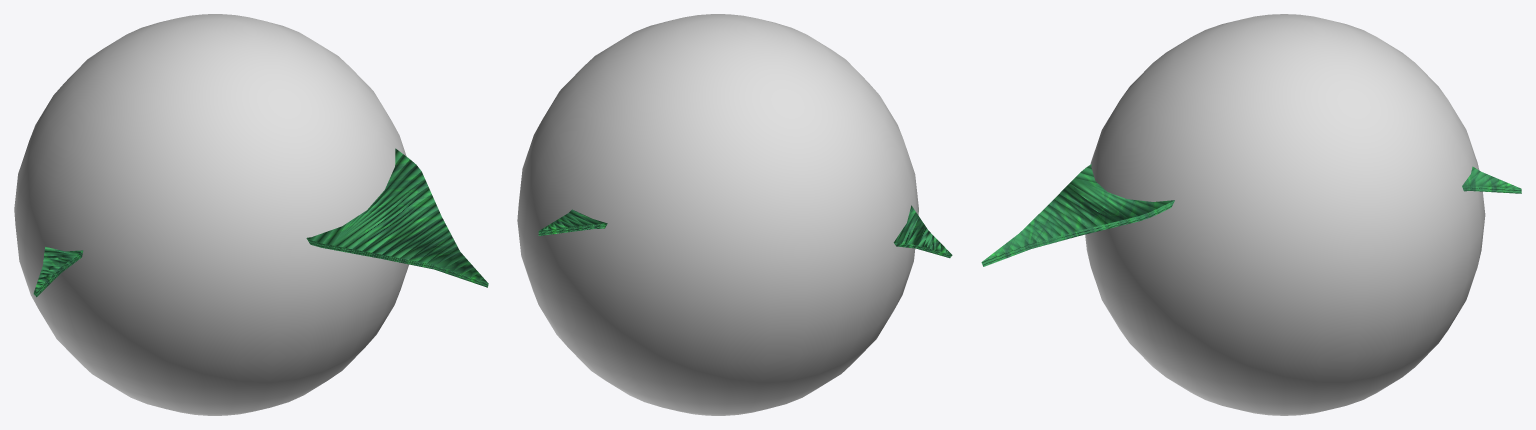
File: kopiec_lisci.FBX
3 views of the same model, side by side, from view 1: azimuth 30°, elevation 25°; view 2: azimuth 150°, elevation 25°; view 3: azimuth 270°, elevation 25° (orthographic).
Parts seen in each view (by area): view 1: BoundingSphere, Sphere001; view 2: BoundingSphere, Sphere001; view 3: BoundingSphere, Sphere001.
Boxes of the visible parts, x1=… form: BoundingSphere: x1=14, y1=14, x2=408, y2=415; Sphere001: x1=33, y1=148, x2=488, y2=297; BoundingSphere: x1=517, y1=14, x2=918, y2=415; Sphere001: x1=538, y1=205, x2=952, y2=258; BoundingSphere: x1=1085, y1=14, x2=1485, y2=415; Sphere001: x1=981, y1=164, x2=1521, y2=266.
Size of the model in its own units: 106 by 97.05 by 130.
Materials: 3 (3 with a texture image).
